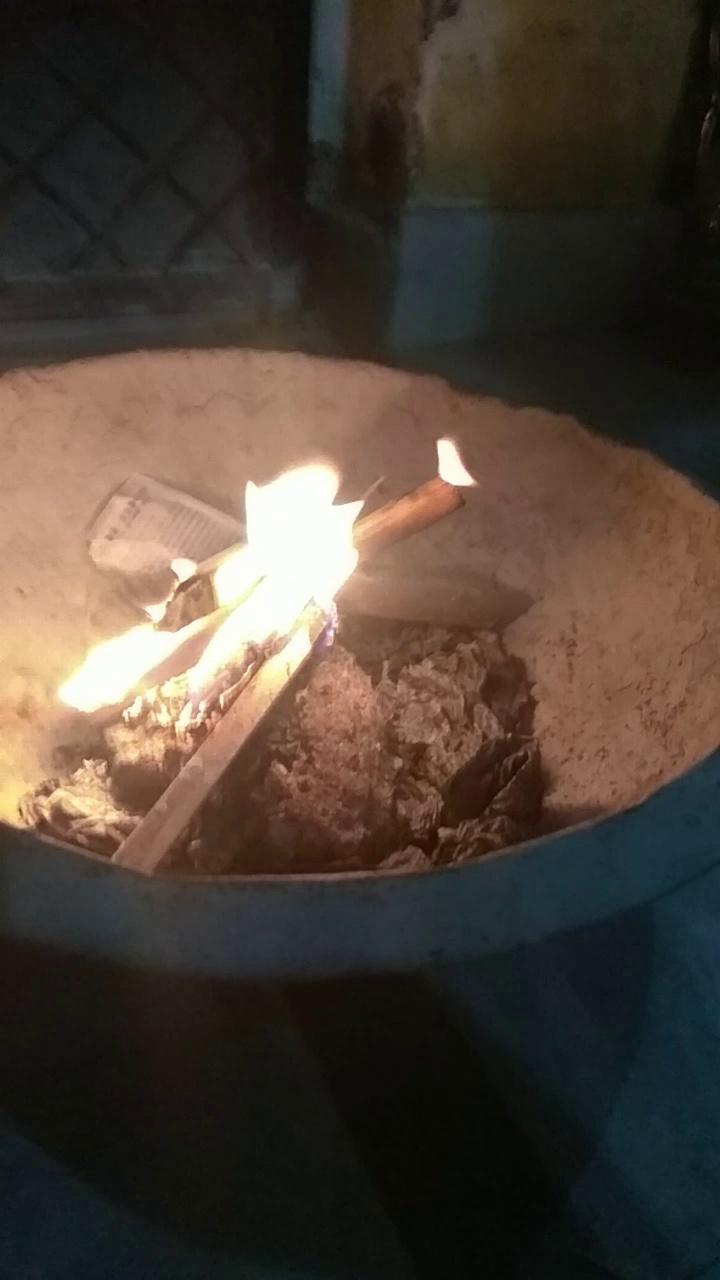fire: (46, 408, 479, 749)
